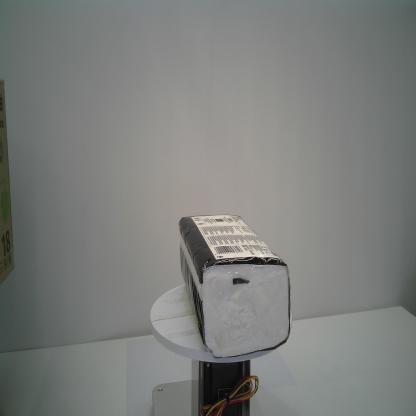Tissue: (179, 212, 291, 359)
